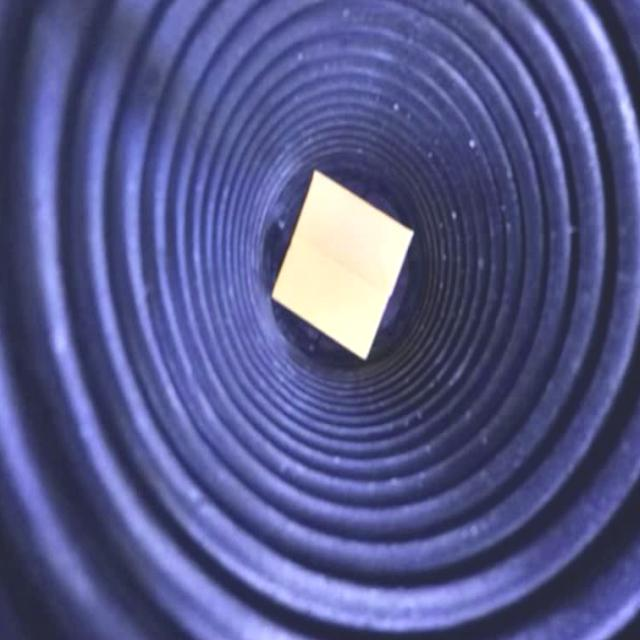obstacles: (267, 165, 414, 363)
